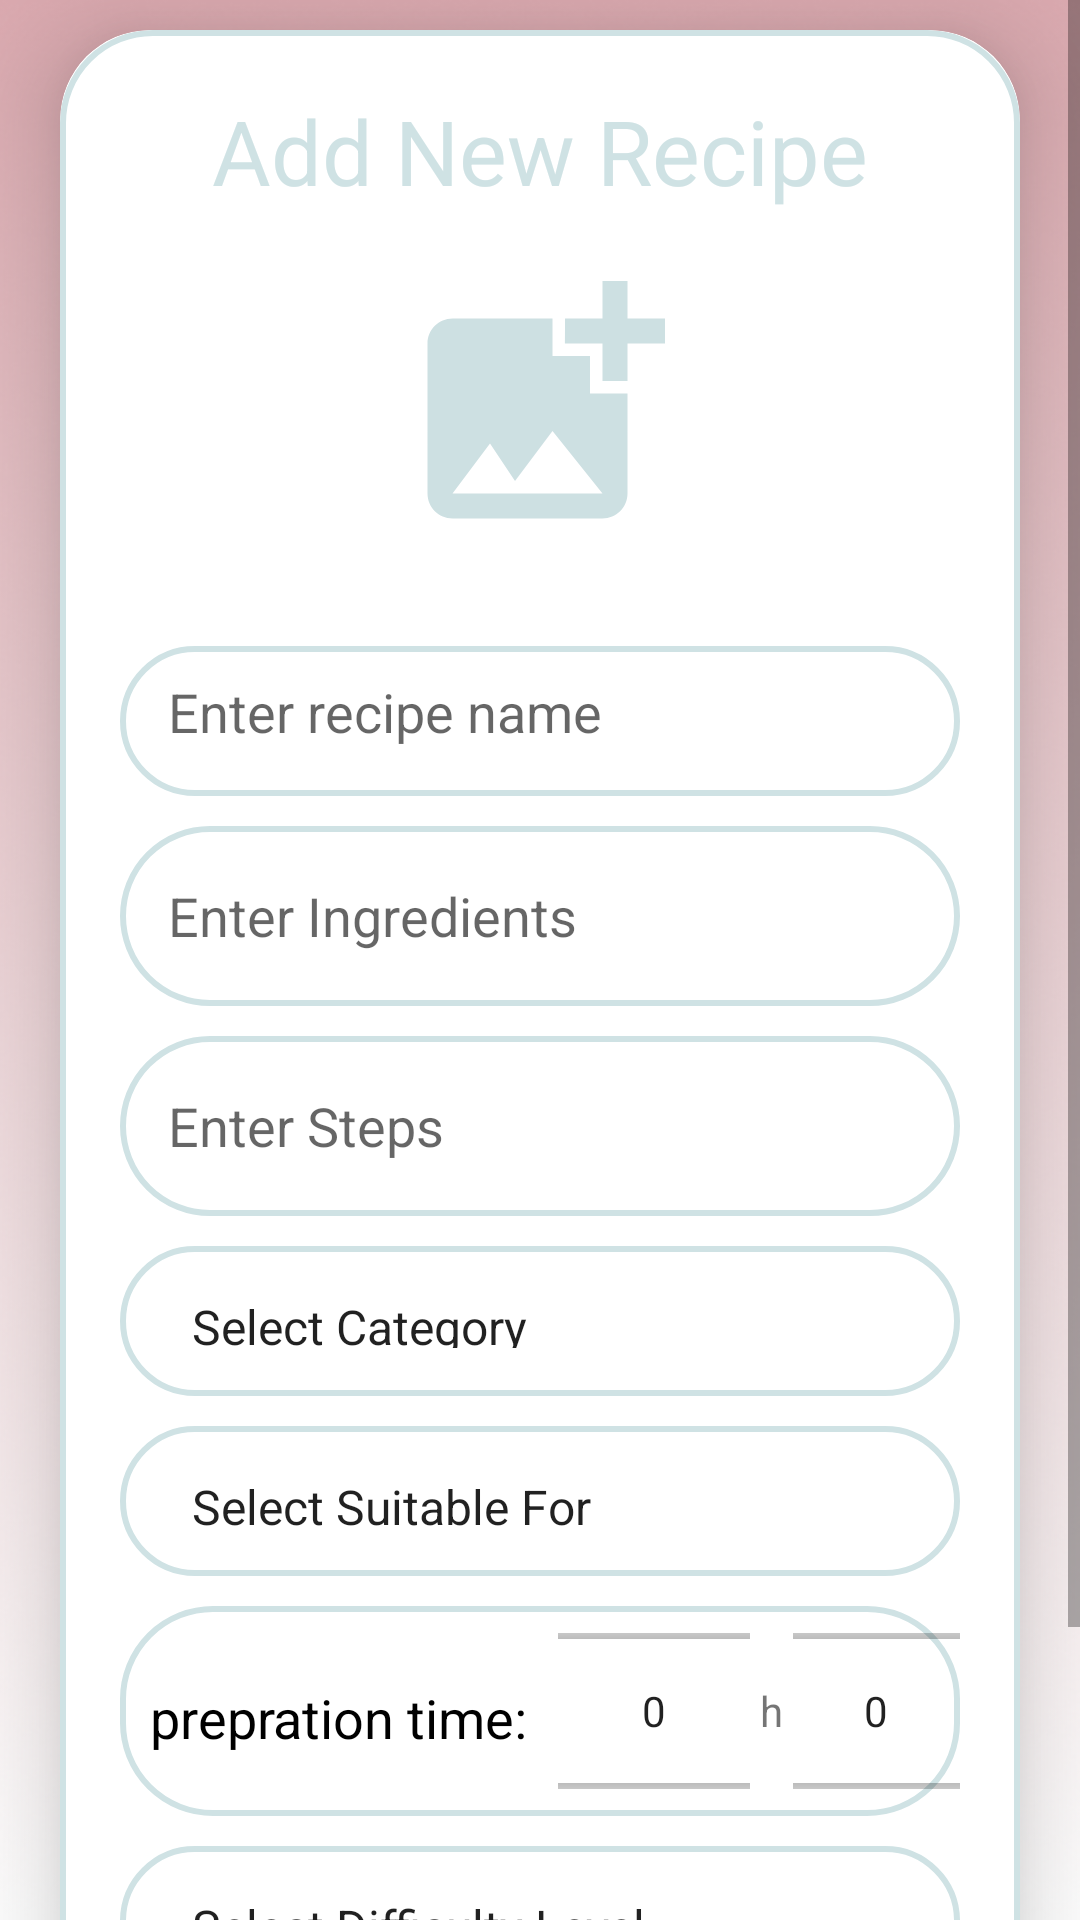

Named icons in this screenshot (1080*1920) and their bounding boxes, (x1, y1, x2, y2):
add photo alternate: (427, 281, 665, 519)
